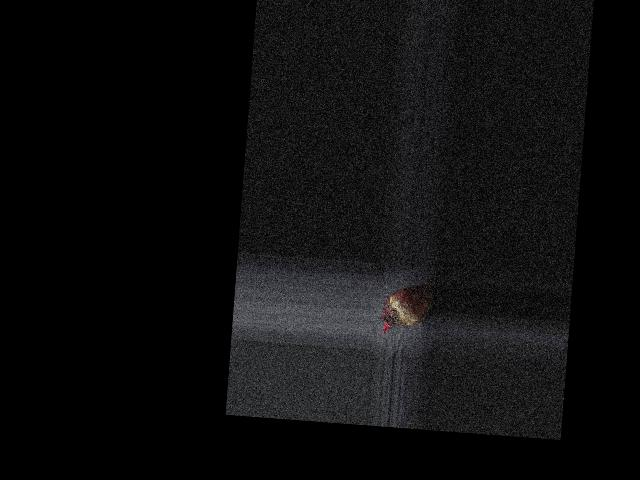beet: (378, 273, 433, 337)
